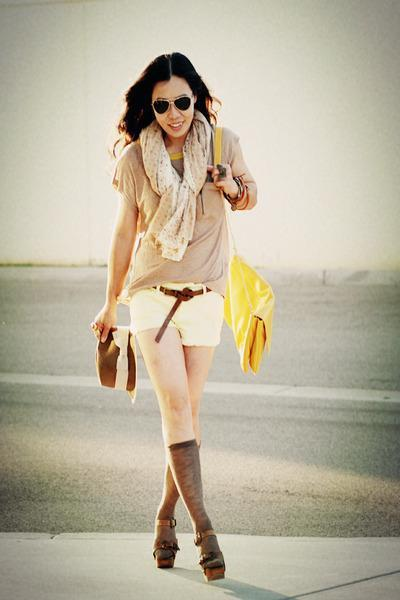bag: (219, 256, 276, 372)
shirt: (113, 125, 256, 299)
shoe: (153, 530, 225, 580)
shorts: (132, 284, 223, 346)
sunglass: (156, 98, 187, 113)
